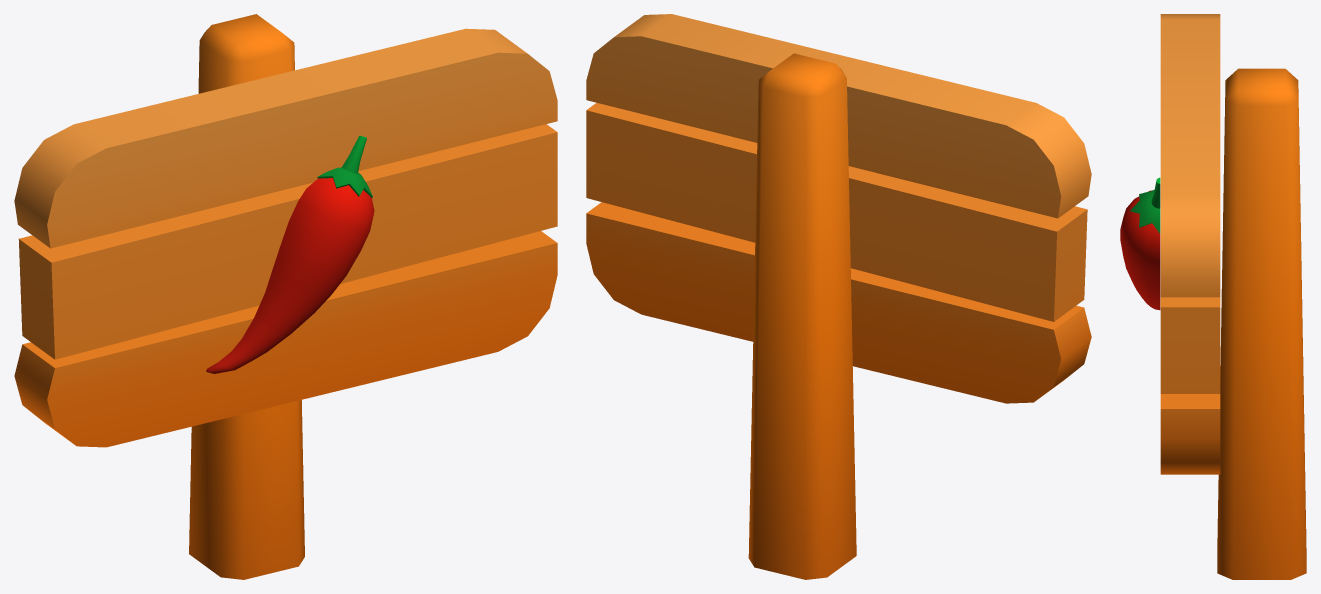
Rendered from Farm_Crop_Sign_Chili_01.fbx.
3 renders of one model, left to right at view 1: azimuth 30°, elevation 25°; view 2: azimuth 150°, elevation 25°; view 3: azimuth 270°, elevation 25°, orthographic. The views are drawn at different scales.
Visible parts, largest first — view 1: Farm_Crop_Sign_Chili_01; view 2: Farm_Crop_Sign_Chili_01; view 3: Farm_Crop_Sign_Chili_01.
Boxes of the visible parts, left/top/right/bottom form: Farm_Crop_Sign_Chili_01: left=14, top=14, right=557, bottom=579; Farm_Crop_Sign_Chili_01: left=586, top=14, right=1091, bottom=579; Farm_Crop_Sign_Chili_01: left=1120, top=14, right=1306, bottom=579.
Size of the model in its own units: 90.11 by 88.8 by 31.04.
